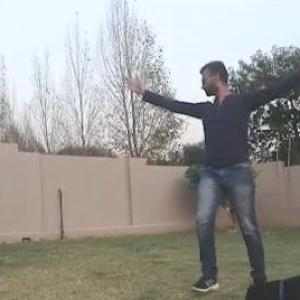takeoff: (58, 7, 300, 299)
